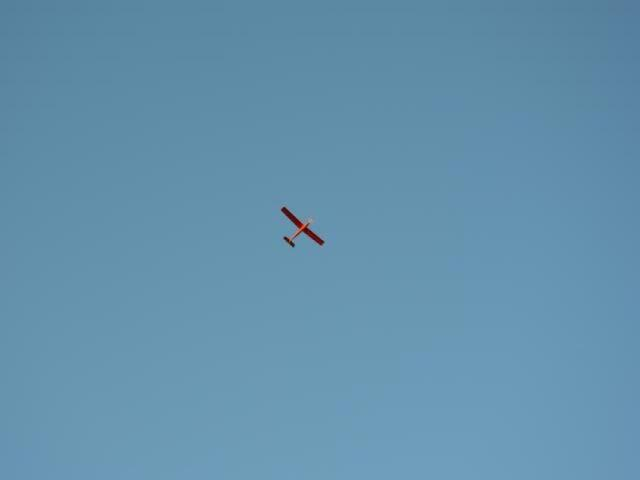iha: (273, 204, 328, 252)
